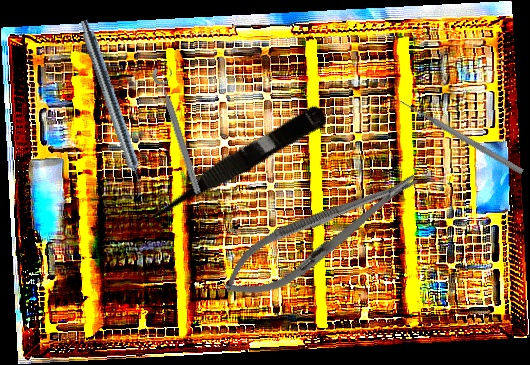Fixation Ring: (150, 63, 212, 196)
Handpiece: (74, 18, 151, 199)
Micro Scissor: (134, 99, 330, 232)
Needle Holder: (212, 155, 431, 314)
Pusher: (398, 97, 525, 176)
